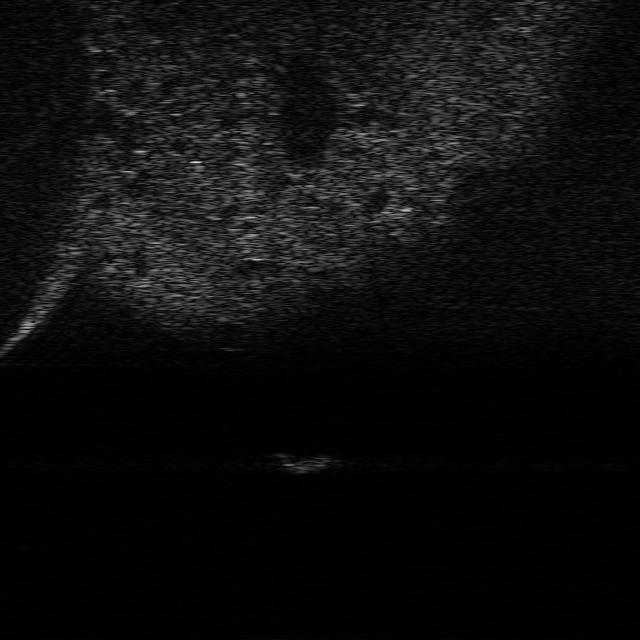cube: (272, 446, 330, 473)
